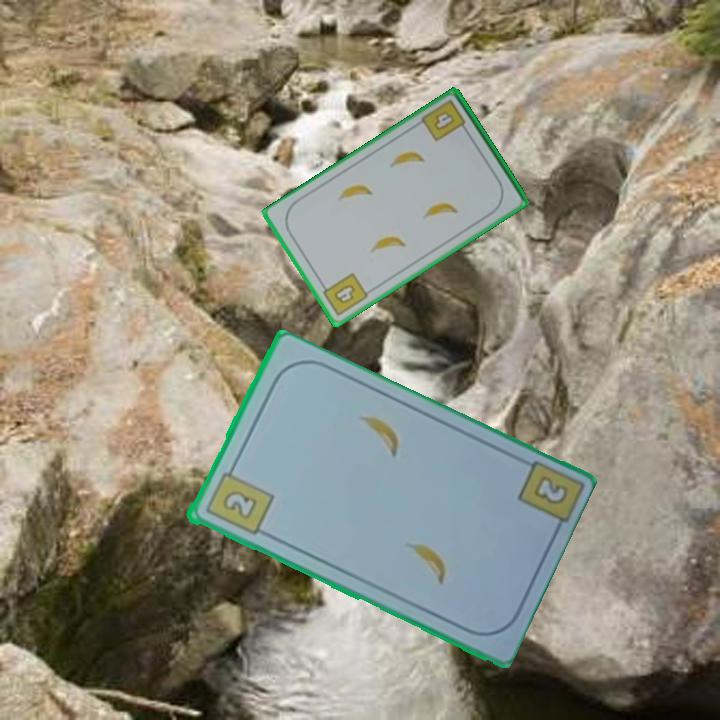2b: (201, 461, 276, 538), (529, 472, 571, 508)
4b: (317, 269, 371, 319), (418, 96, 471, 145)
